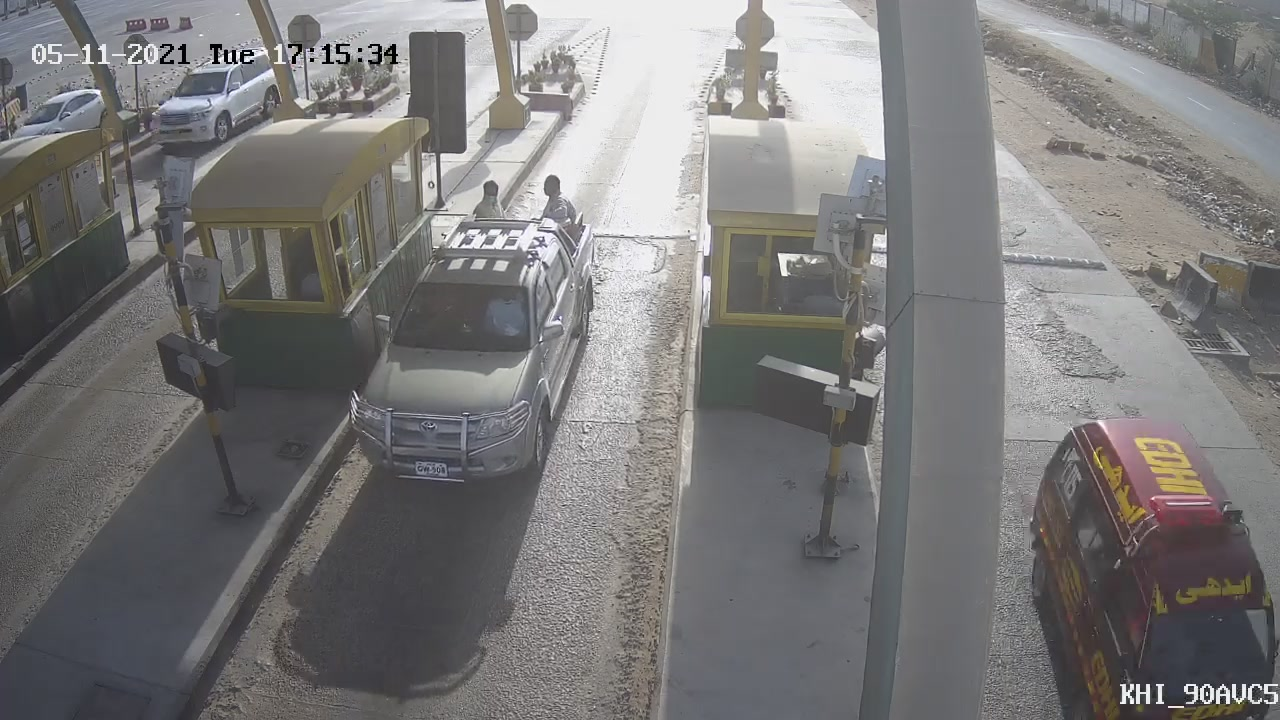F1: (314, 157, 629, 509)
